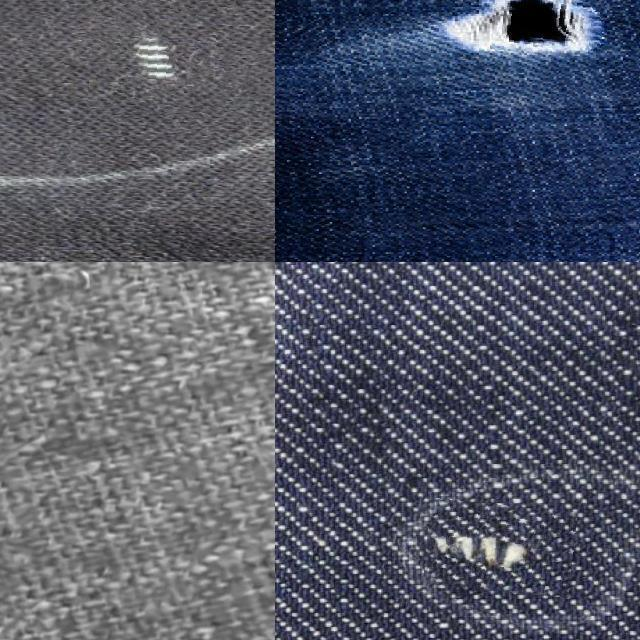other: (491, 0, 604, 56)
stains: (90, 0, 235, 116), (424, 500, 575, 594)
